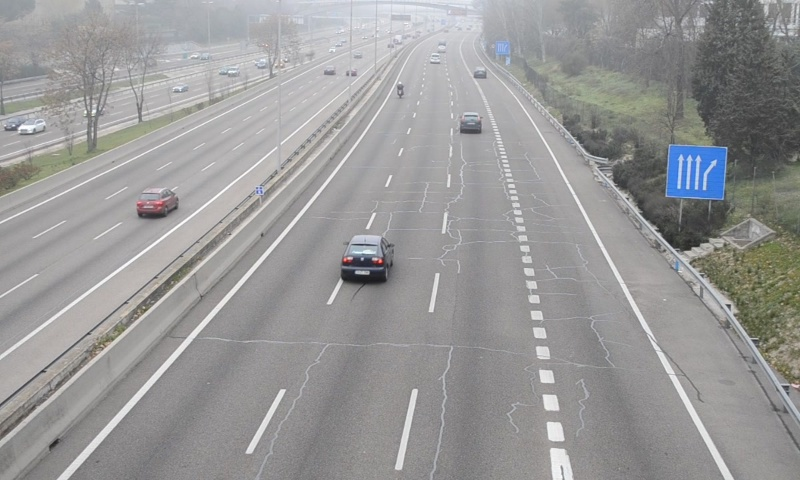car: (341, 233, 394, 284), (458, 110, 482, 134), (473, 67, 486, 78)
motorcycle: (395, 81, 403, 101)
